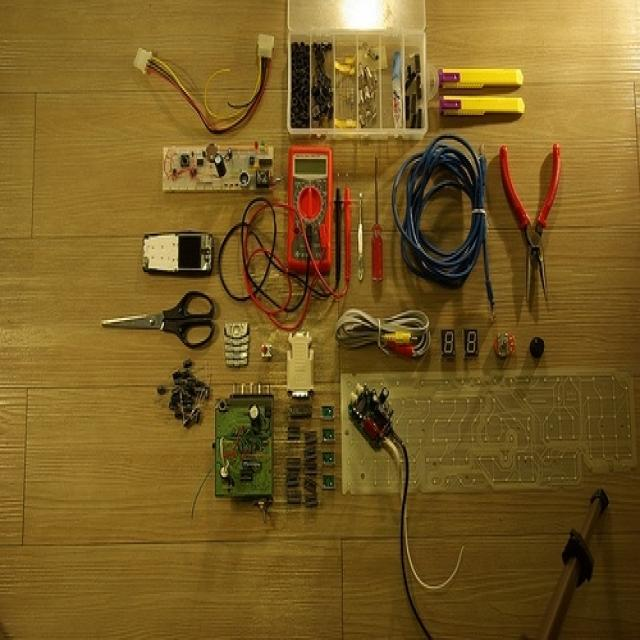Cable: (330, 304, 474, 606), (395, 141, 496, 308), (120, 17, 272, 125), (217, 202, 319, 322)
E-waste: (162, 332, 324, 542), (140, 129, 282, 192), (135, 213, 219, 282)
Metal: (516, 224, 569, 336), (99, 296, 174, 352)
